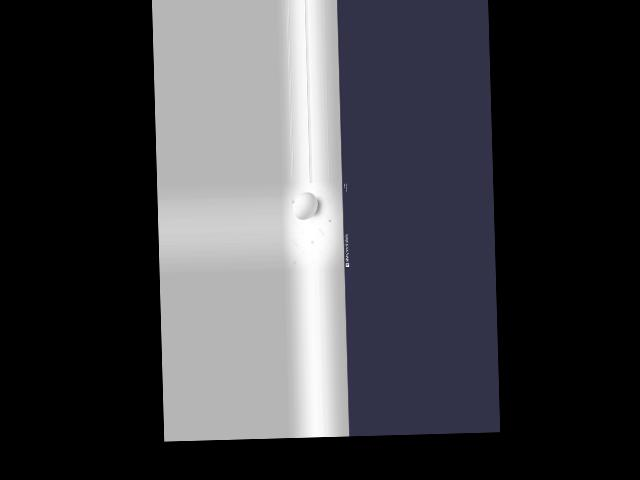egg: (293, 191, 318, 219)
